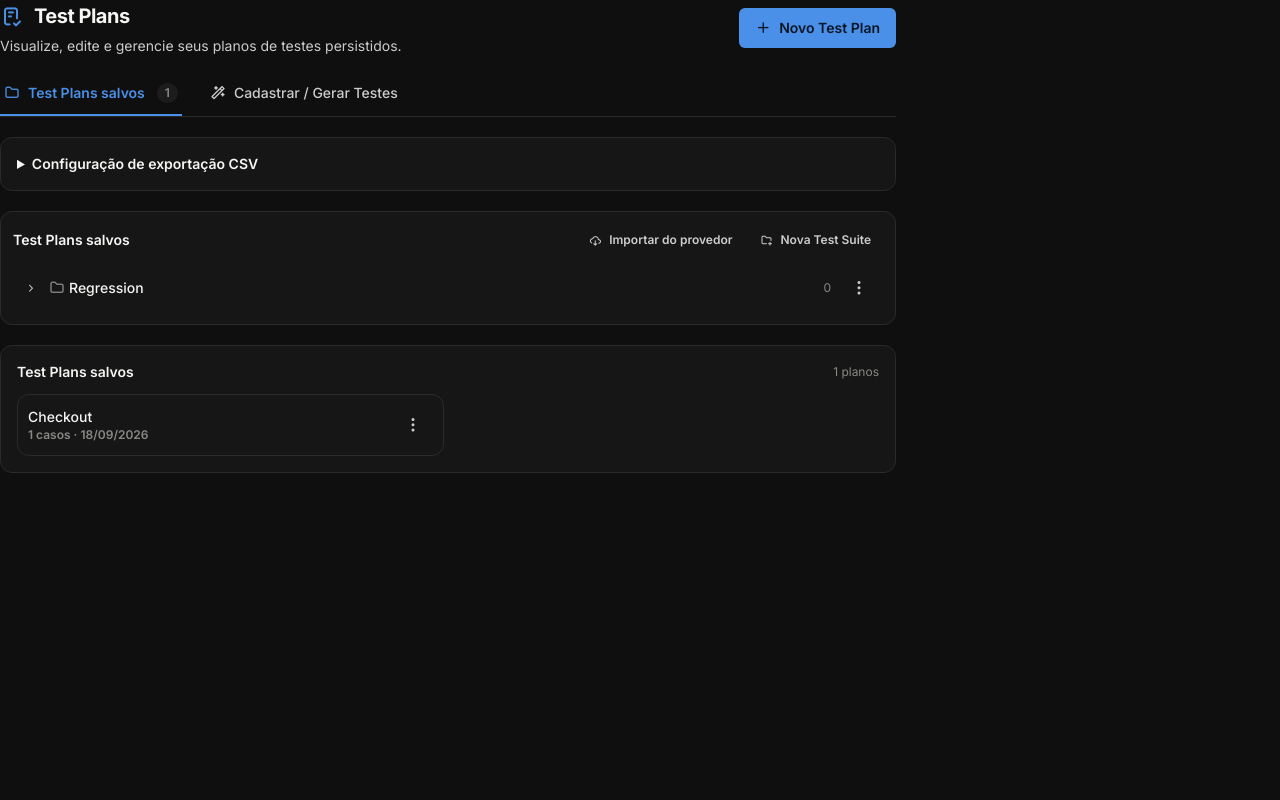
Scenario: TestPlansView case editor › adds and removes a step
Click the button with aria-label "Abrir Test Plan Checkout".
click(60, 416)  # box [28, 407, 393, 443]
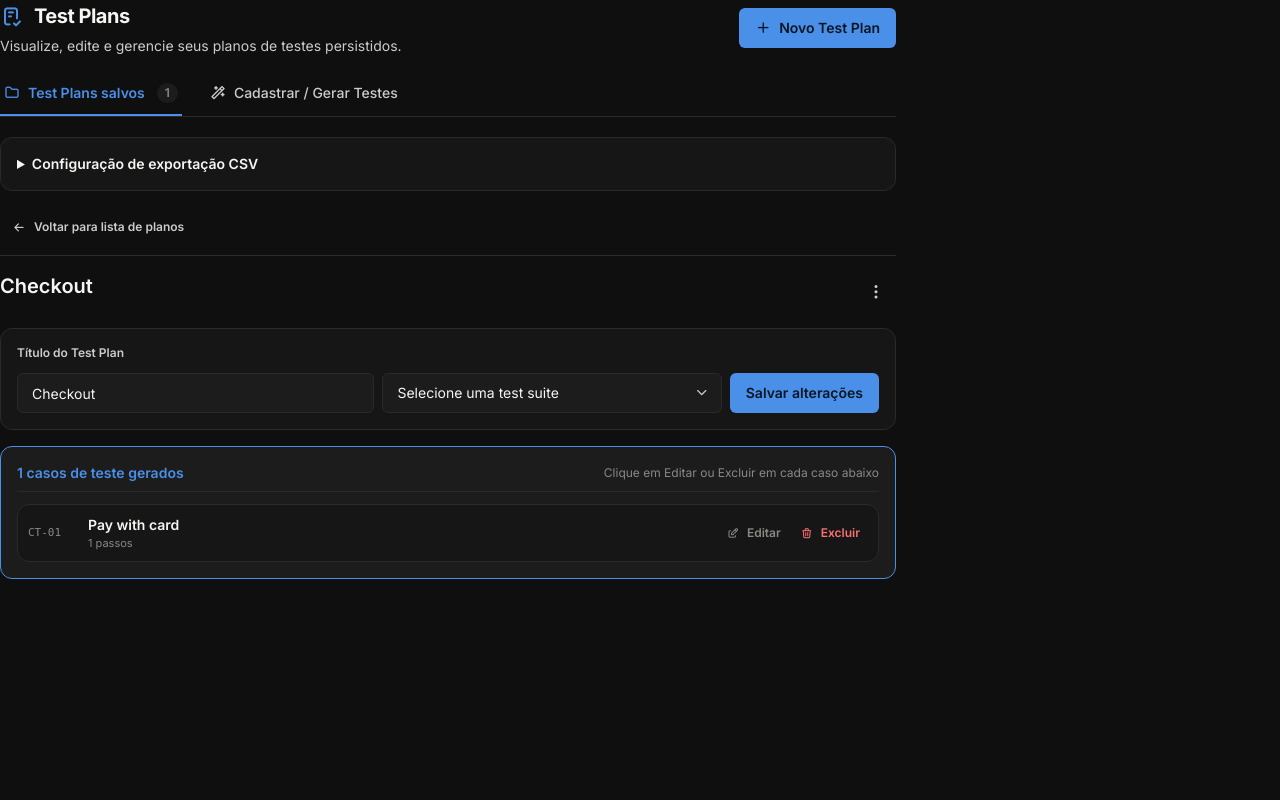
Click the button with test id "btn-edit-test-CT-01".
click(754, 533)  # box [719, 519, 789, 547]
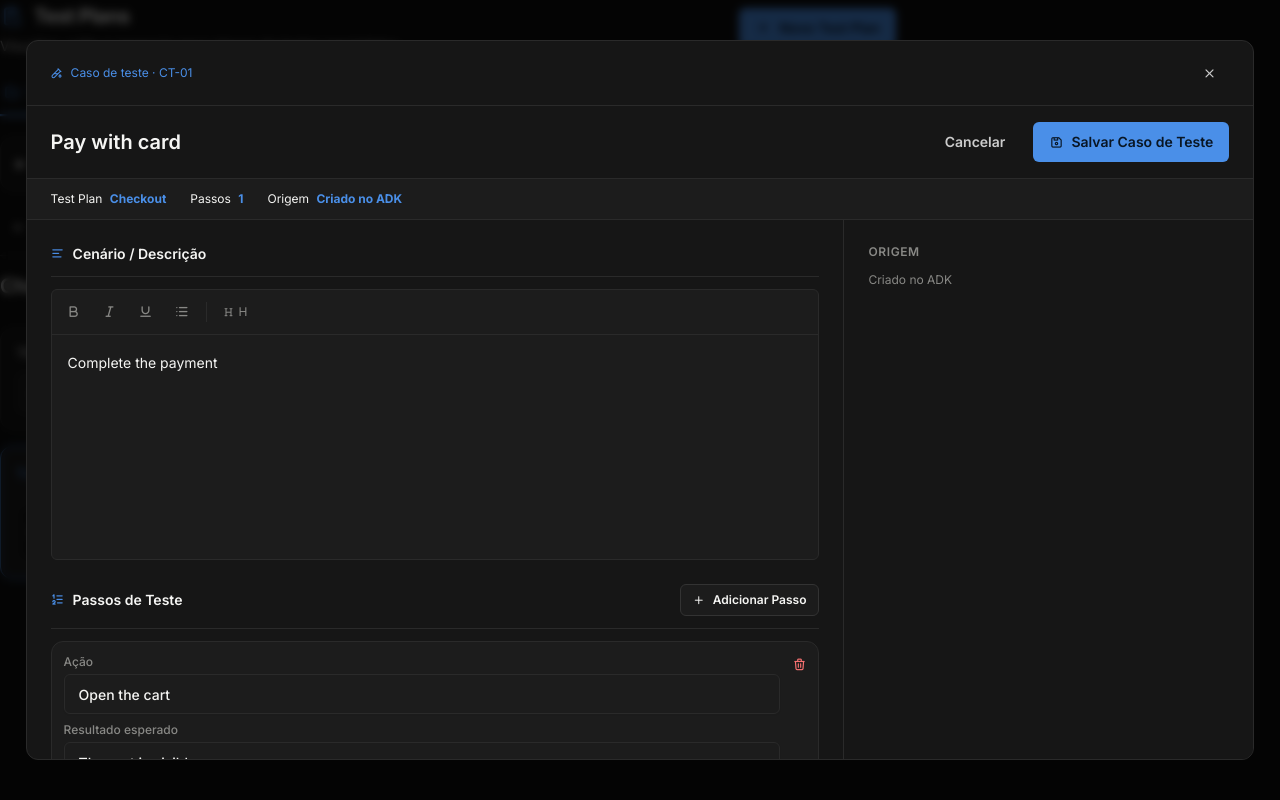
Click the button "Adicionar Passo".
click(750, 600)  # box [680, 584, 820, 616]
(page scrolled)
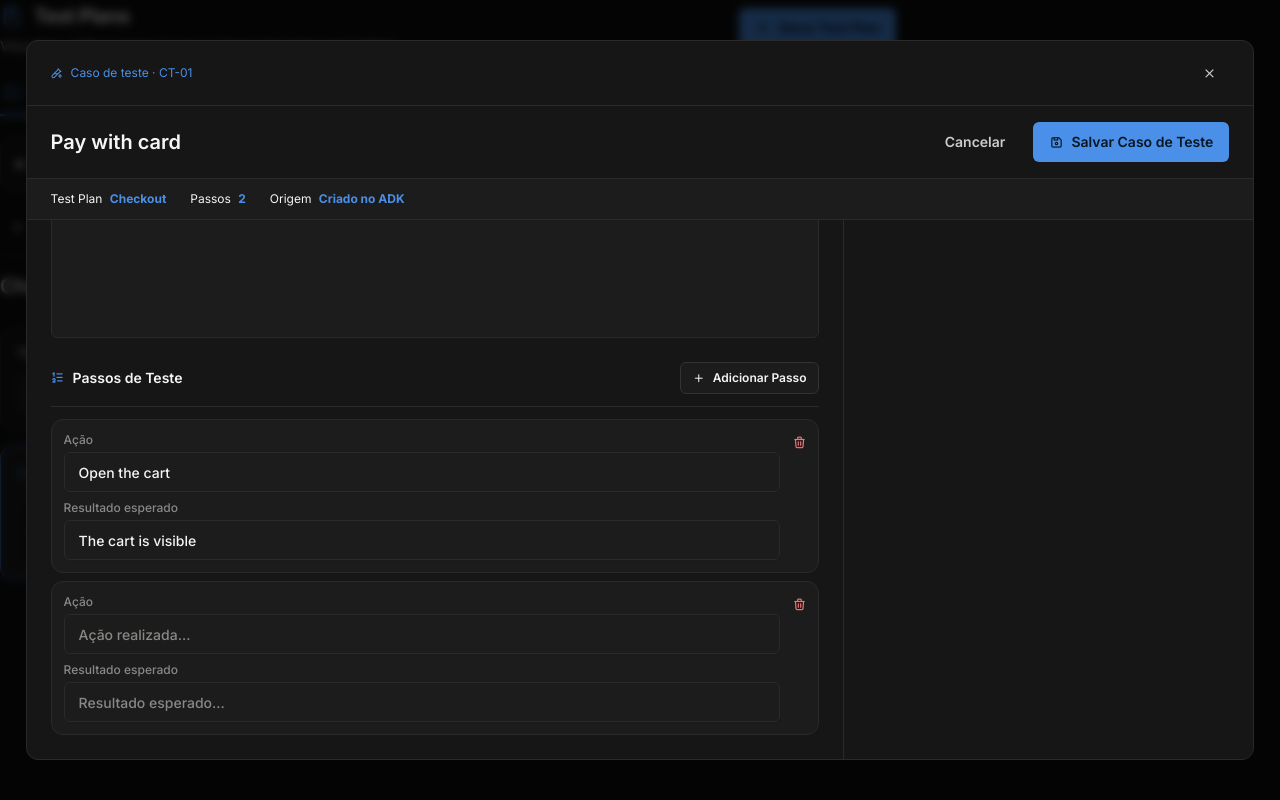
Expected: the field with test id "input-step-action-2" is shown
Type "Confirm" into the field with test id "input-step-action-2".
click(422, 634); type("Confirm")  # box [64, 614, 780, 654]
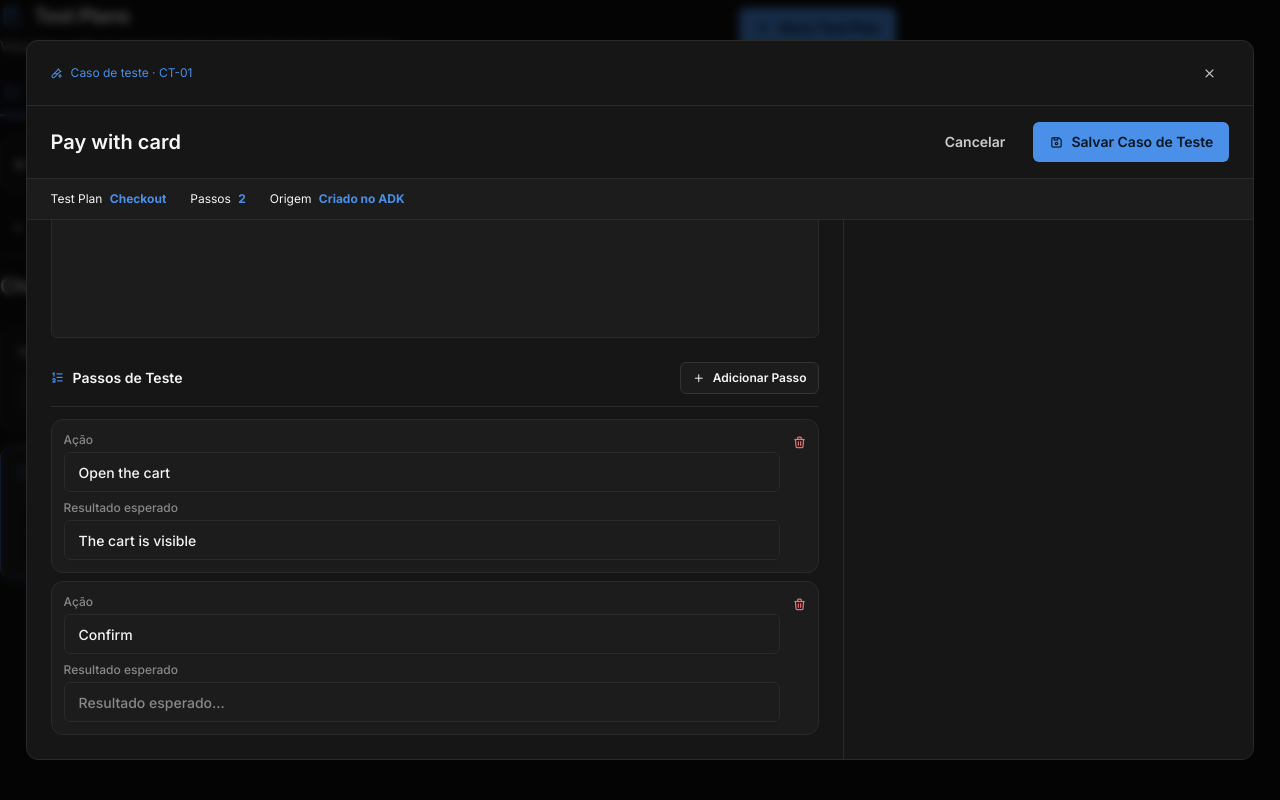
Type "Confirmed" into the field with test id "input-step-expected-2".
click(422, 702); type("Confirmed")  # box [64, 682, 780, 722]
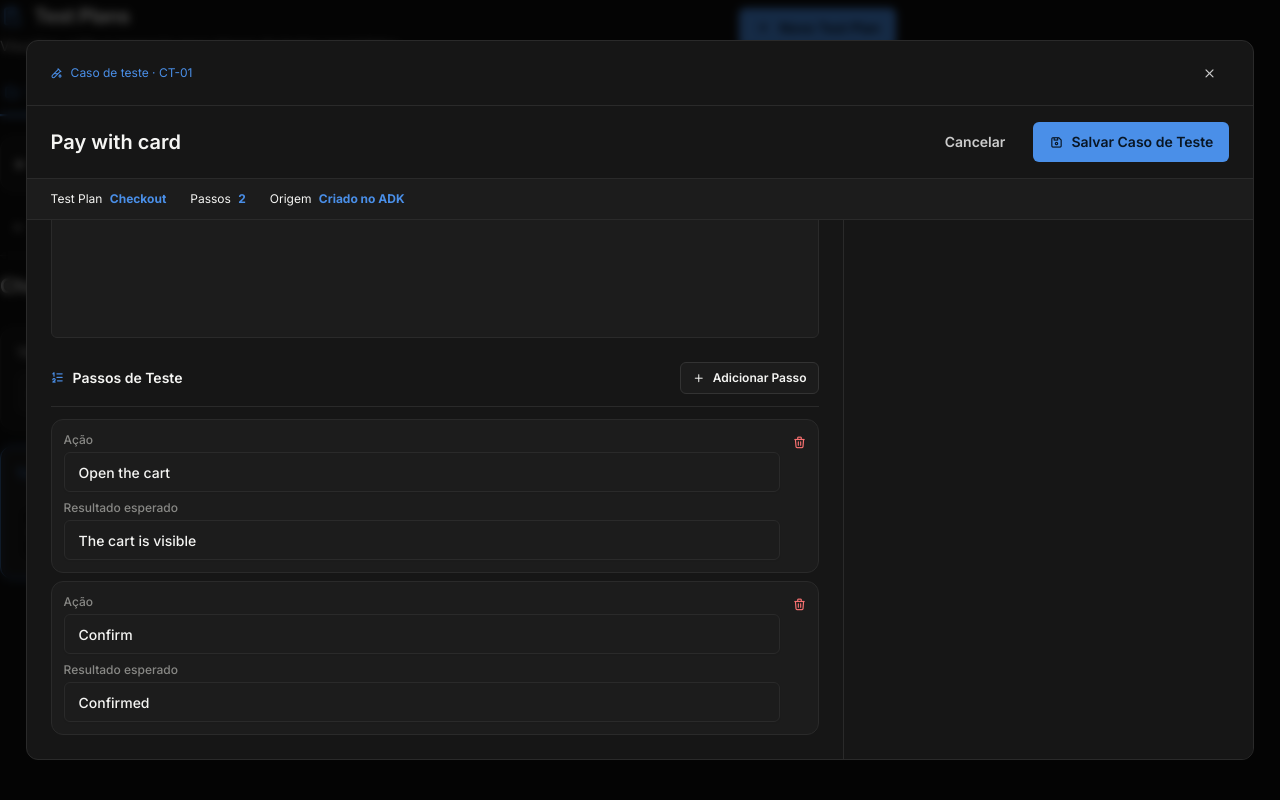
Click the button named "Remover passo 2".
click(800, 604)  # box [792, 594, 806, 614]
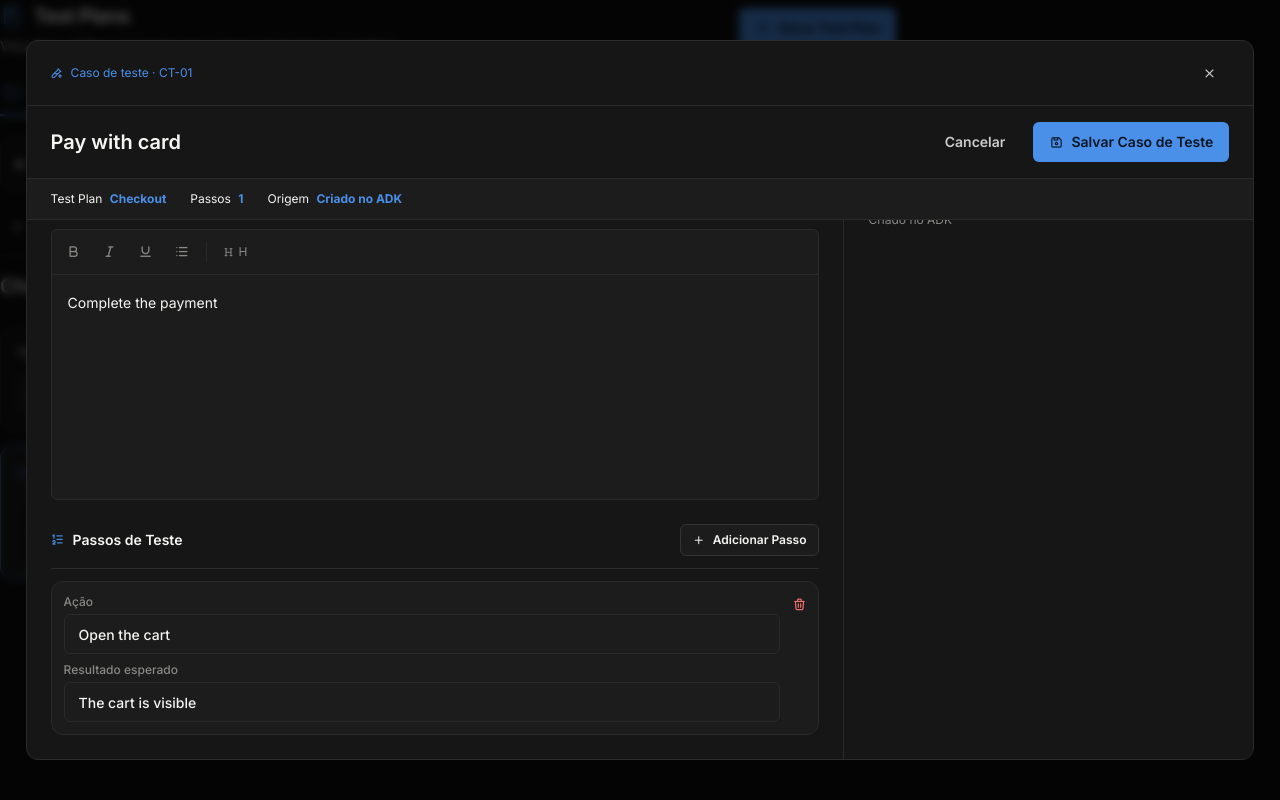
Expected: the field with test id "input-step-action-2" is gone
